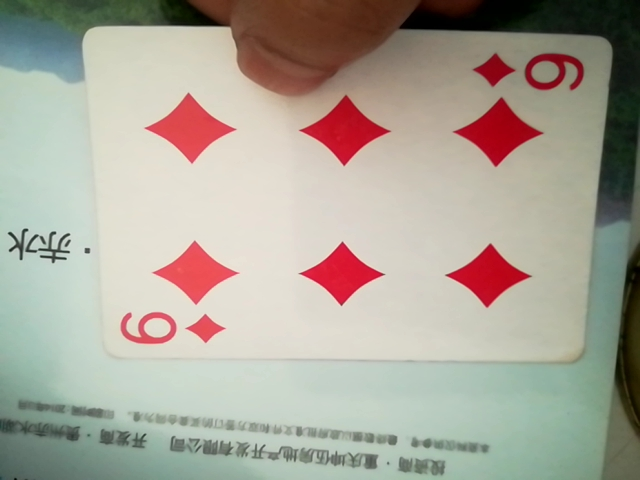fk 6: (75, 15, 605, 380)
